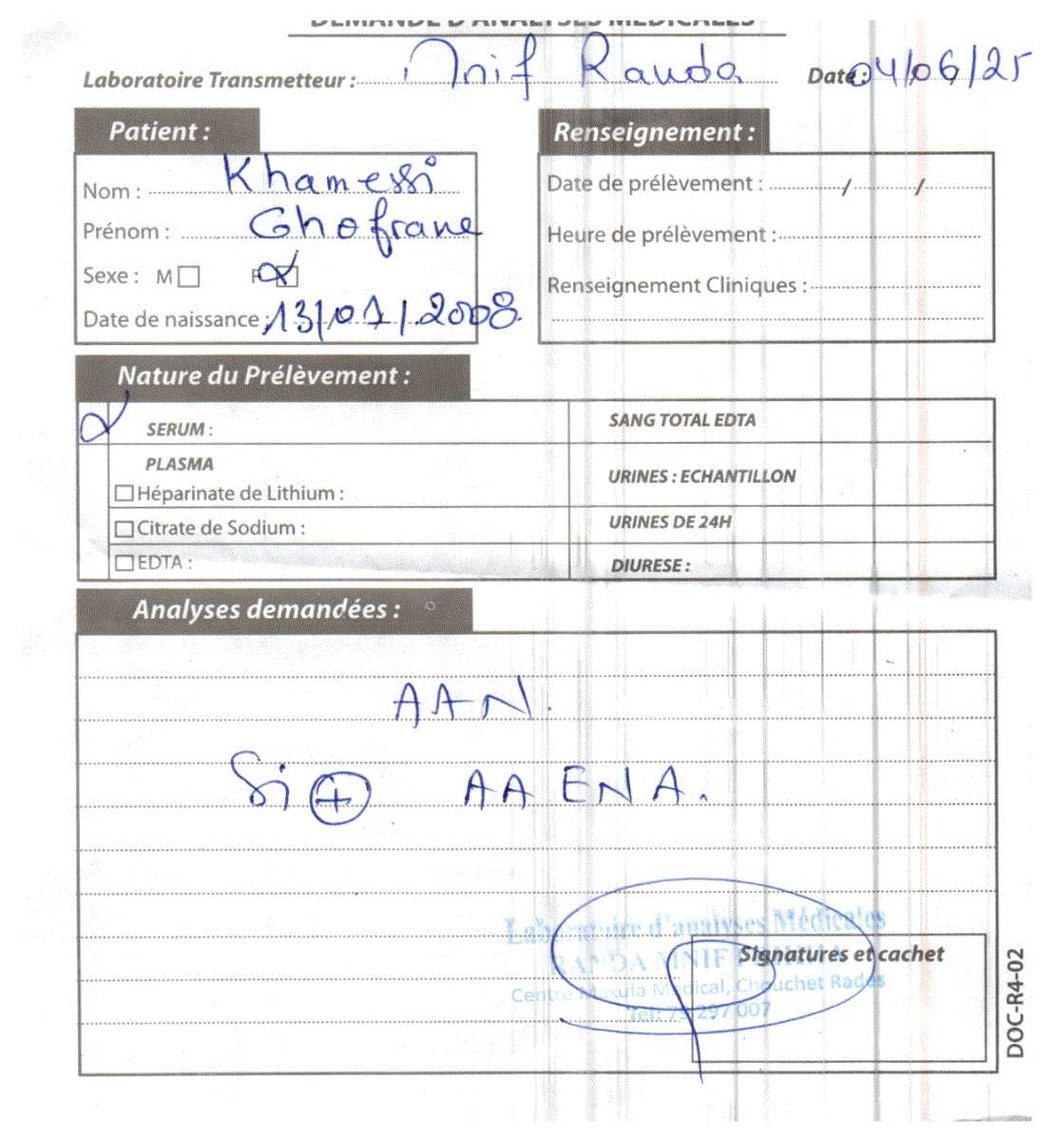zone_analyses: (81, 592, 801, 863)
zone_patient: (783, 49, 1036, 108)
zone_prescripteur: (70, 114, 529, 347)
